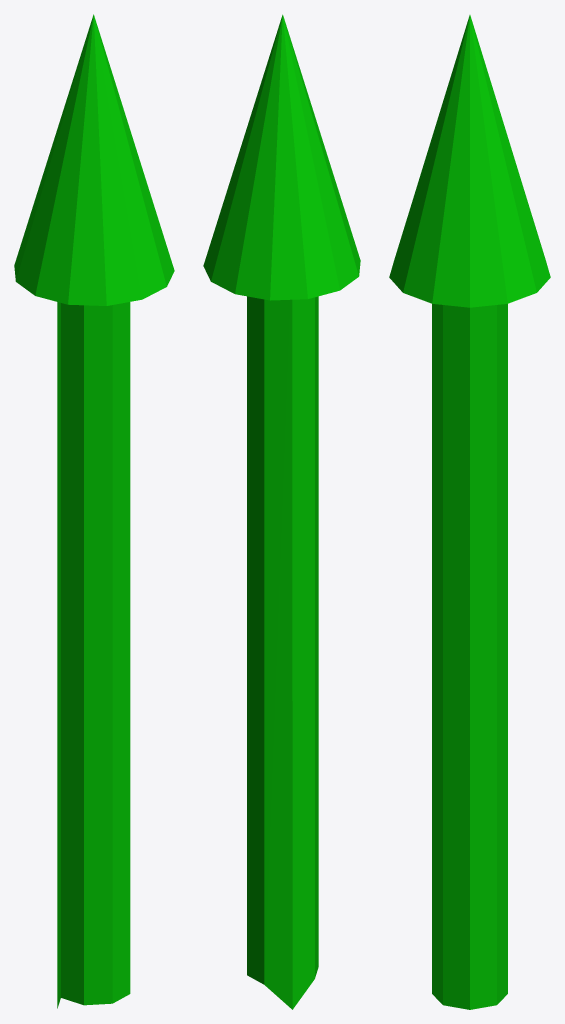
Rendered from translation-gizmo-y.glb.
The picture shows the model from 3 angles, left to right: view 1: azimuth 30°, elevation 25°; view 2: azimuth 150°, elevation 25°; view 3: azimuth 270°, elevation 25°; orthographic projection. The views are drawn at different scales.
Visible parts, largest first — view 1: translation-gizmo-y; view 2: translation-gizmo-y; view 3: translation-gizmo-y.
Part boxes in pixels (x1,y1,x2,y2): translation-gizmo-y: (14, 14, 174, 1008); translation-gizmo-y: (203, 14, 360, 1009); translation-gizmo-y: (389, 15, 550, 1009).
Bounding box in the file's own units: 0.5365 × 3.71 × 0.5404.
